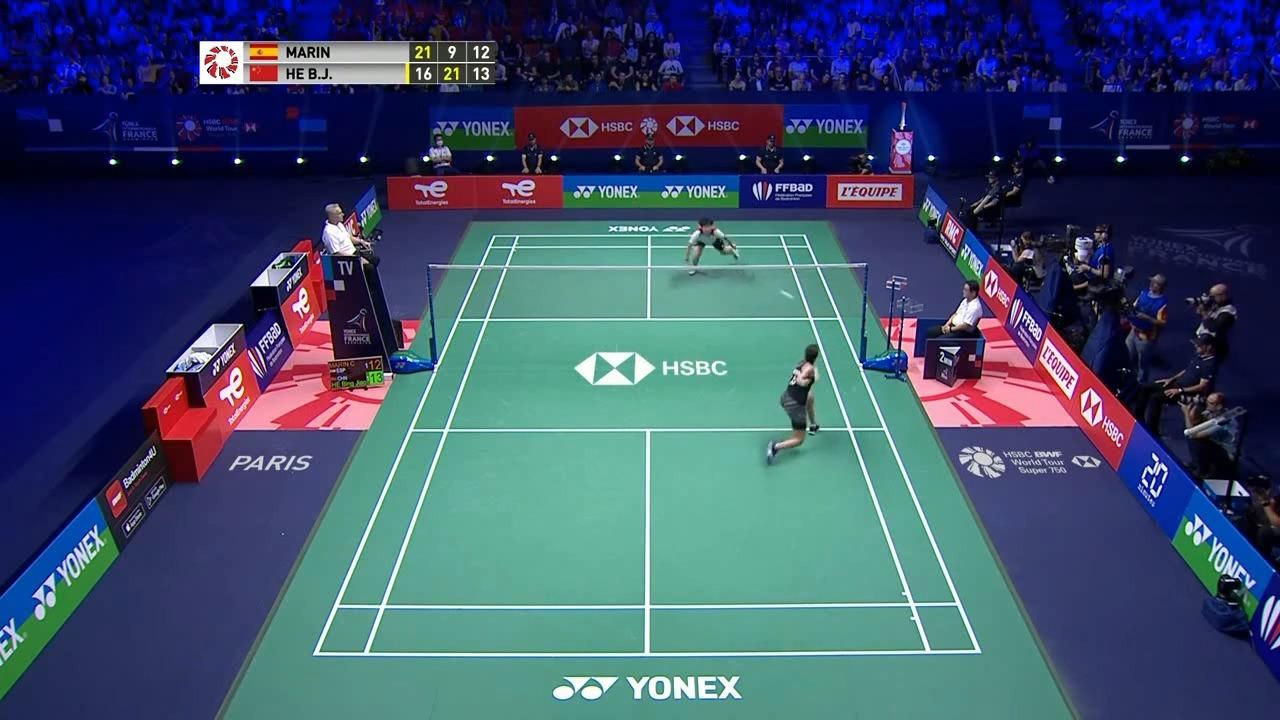shuttle: (776, 284, 799, 302)
